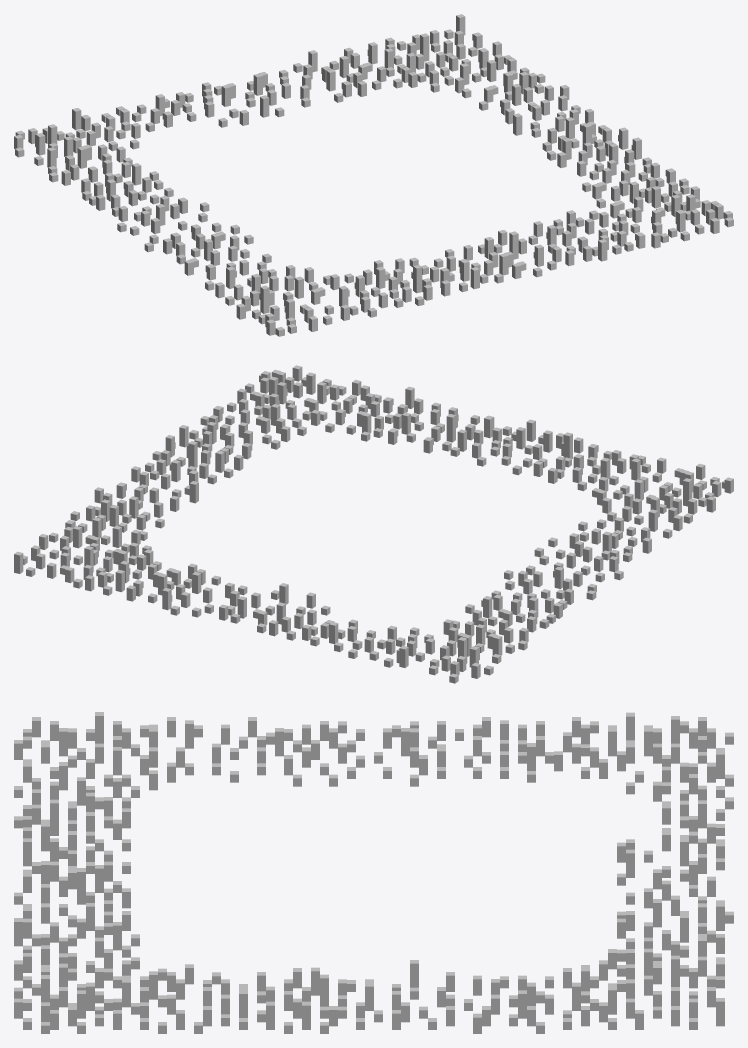
Rendered from snow_2_overtile.glb.
3 renders of one model, top to bottom at view 1: azimuth 30°, elevation 25°; view 2: azimuth 150°, elevation 25°; view 3: azimuth 270°, elevation 25°, orthographic. The views are drawn at different scales.
Visible parts, largest first — view 1: snow_2_overtile; view 2: snow_2_overtile; view 3: snow_2_overtile.
Part boxes in pixels (x1,y1,x2,y2): snow_2_overtile: (14, 14, 733, 336); snow_2_overtile: (14, 365, 733, 683); snow_2_overtile: (14, 712, 733, 1033).
Bounding box in the file's own units: 8 × 0.4 × 8.
Materials: 1 (1 with a texture image).
